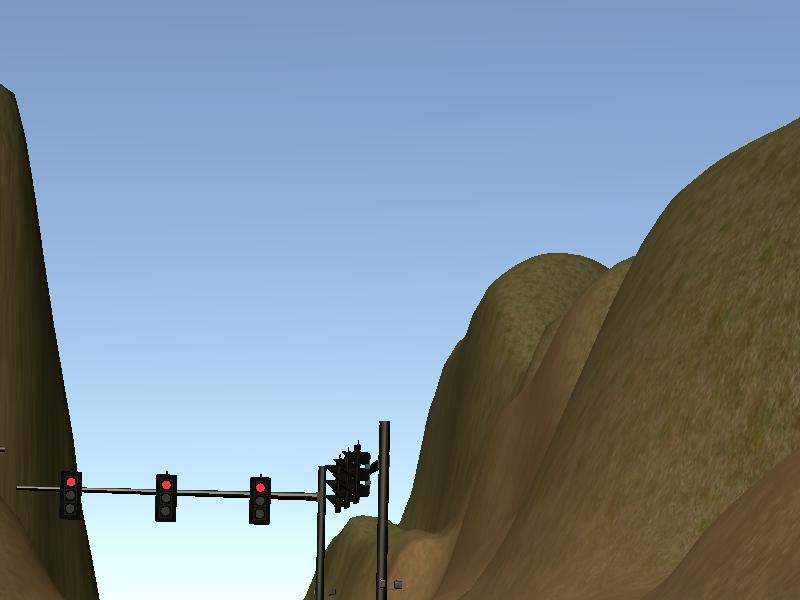RED: (249, 477, 271, 527), (58, 472, 80, 522), (151, 471, 173, 521)
